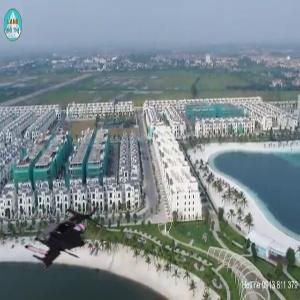drone: (16, 191, 113, 288)
